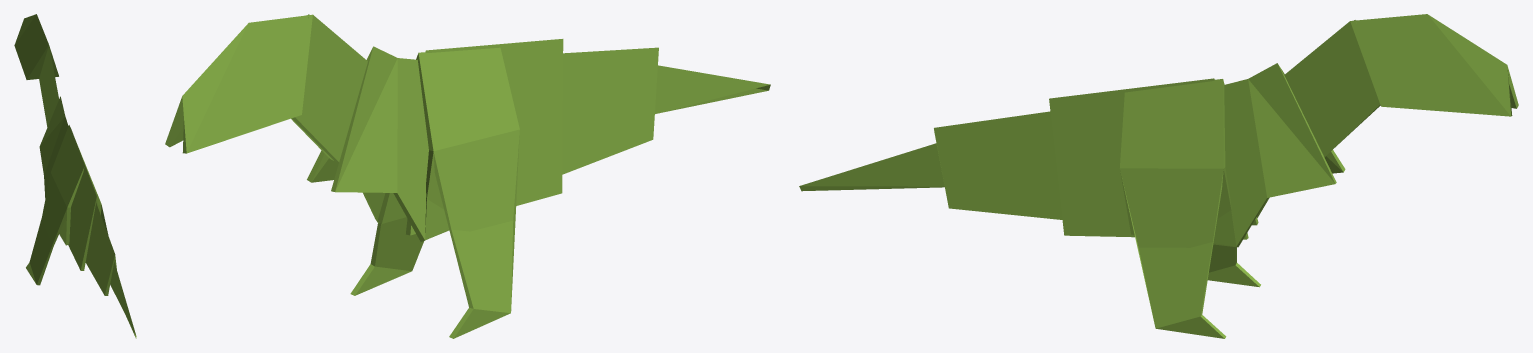
The model's file is dino.fbx.
The picture shows the model from 3 angles, left to right: view 1: azimuth 30°, elevation 25°; view 2: azimuth 150°, elevation 25°; view 3: azimuth 270°, elevation 25°; orthographic projection. The views are drawn at different scales.
Visible parts, largest first — view 1: Dino; view 2: Dino; view 3: Dino.
Part boxes in pixels (x1,y1,x2,y2): Dino: (14, 14, 136, 338); Dino: (165, 14, 770, 338); Dino: (799, 14, 1518, 338).
Bounding box in the file's own units: 299 × 487 × 993.
